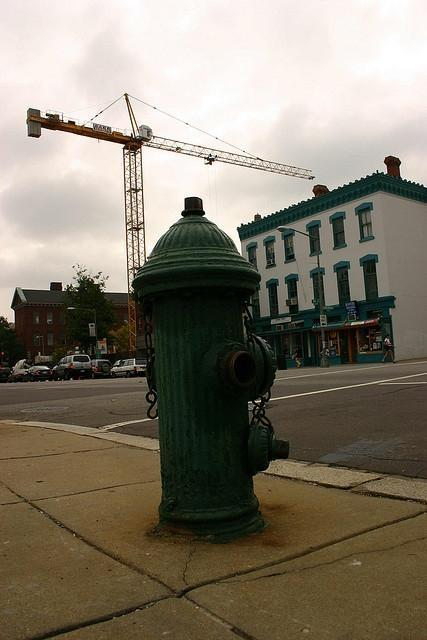car: (52, 354, 92, 380), (115, 358, 146, 377), (22, 366, 56, 382), (91, 359, 113, 378)
